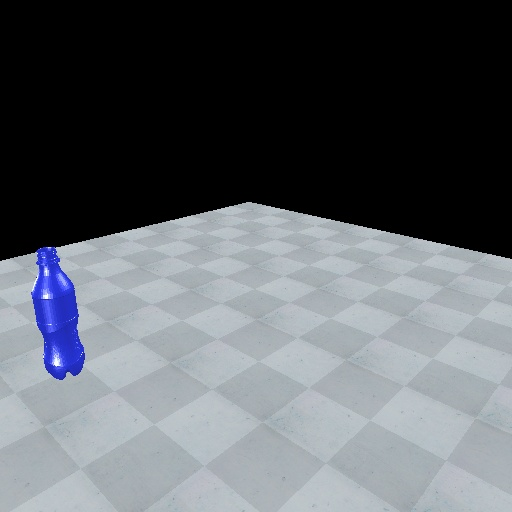bottle: (30, 245, 87, 382)
